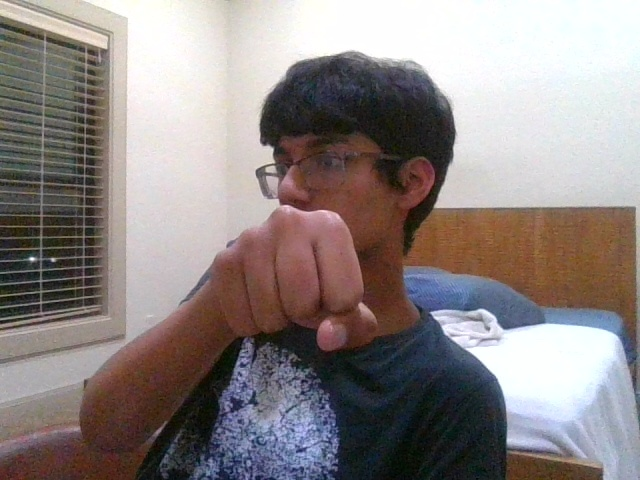yes: (213, 205, 377, 350)
